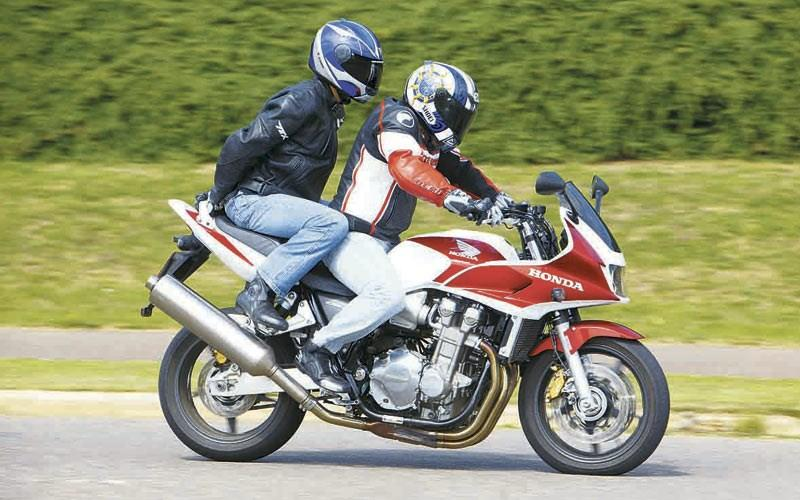helmet: (404, 46, 475, 155), (302, 3, 376, 107)
